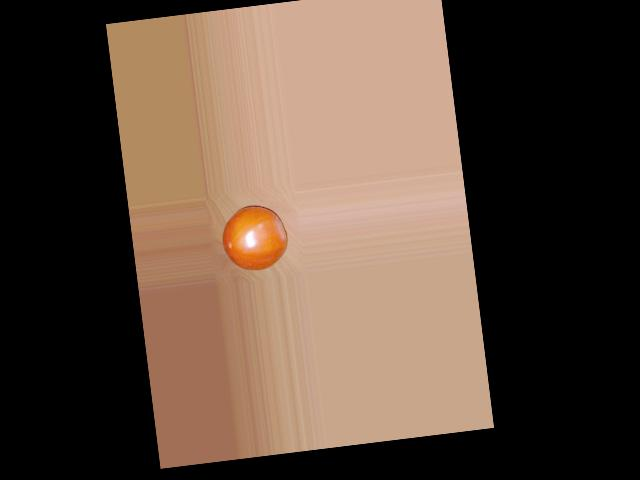tomato: (218, 202, 290, 274)
